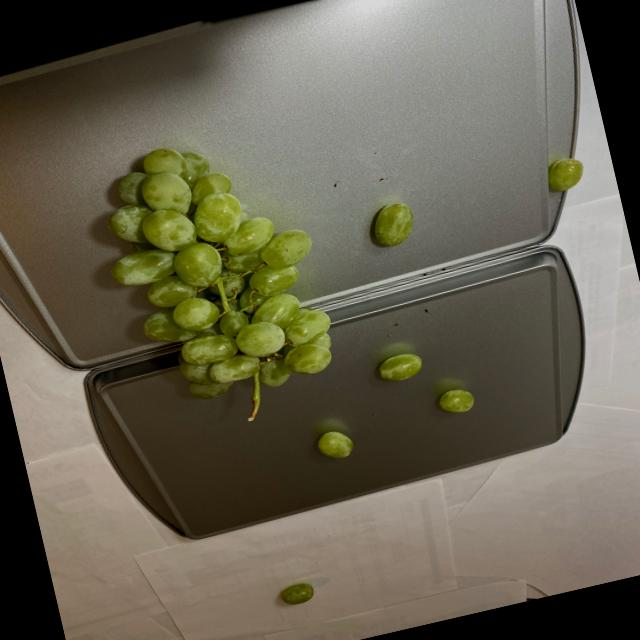grapes: (82, 96, 436, 448), (432, 381, 483, 424), (542, 152, 588, 194), (312, 422, 359, 462), (272, 580, 316, 610)
